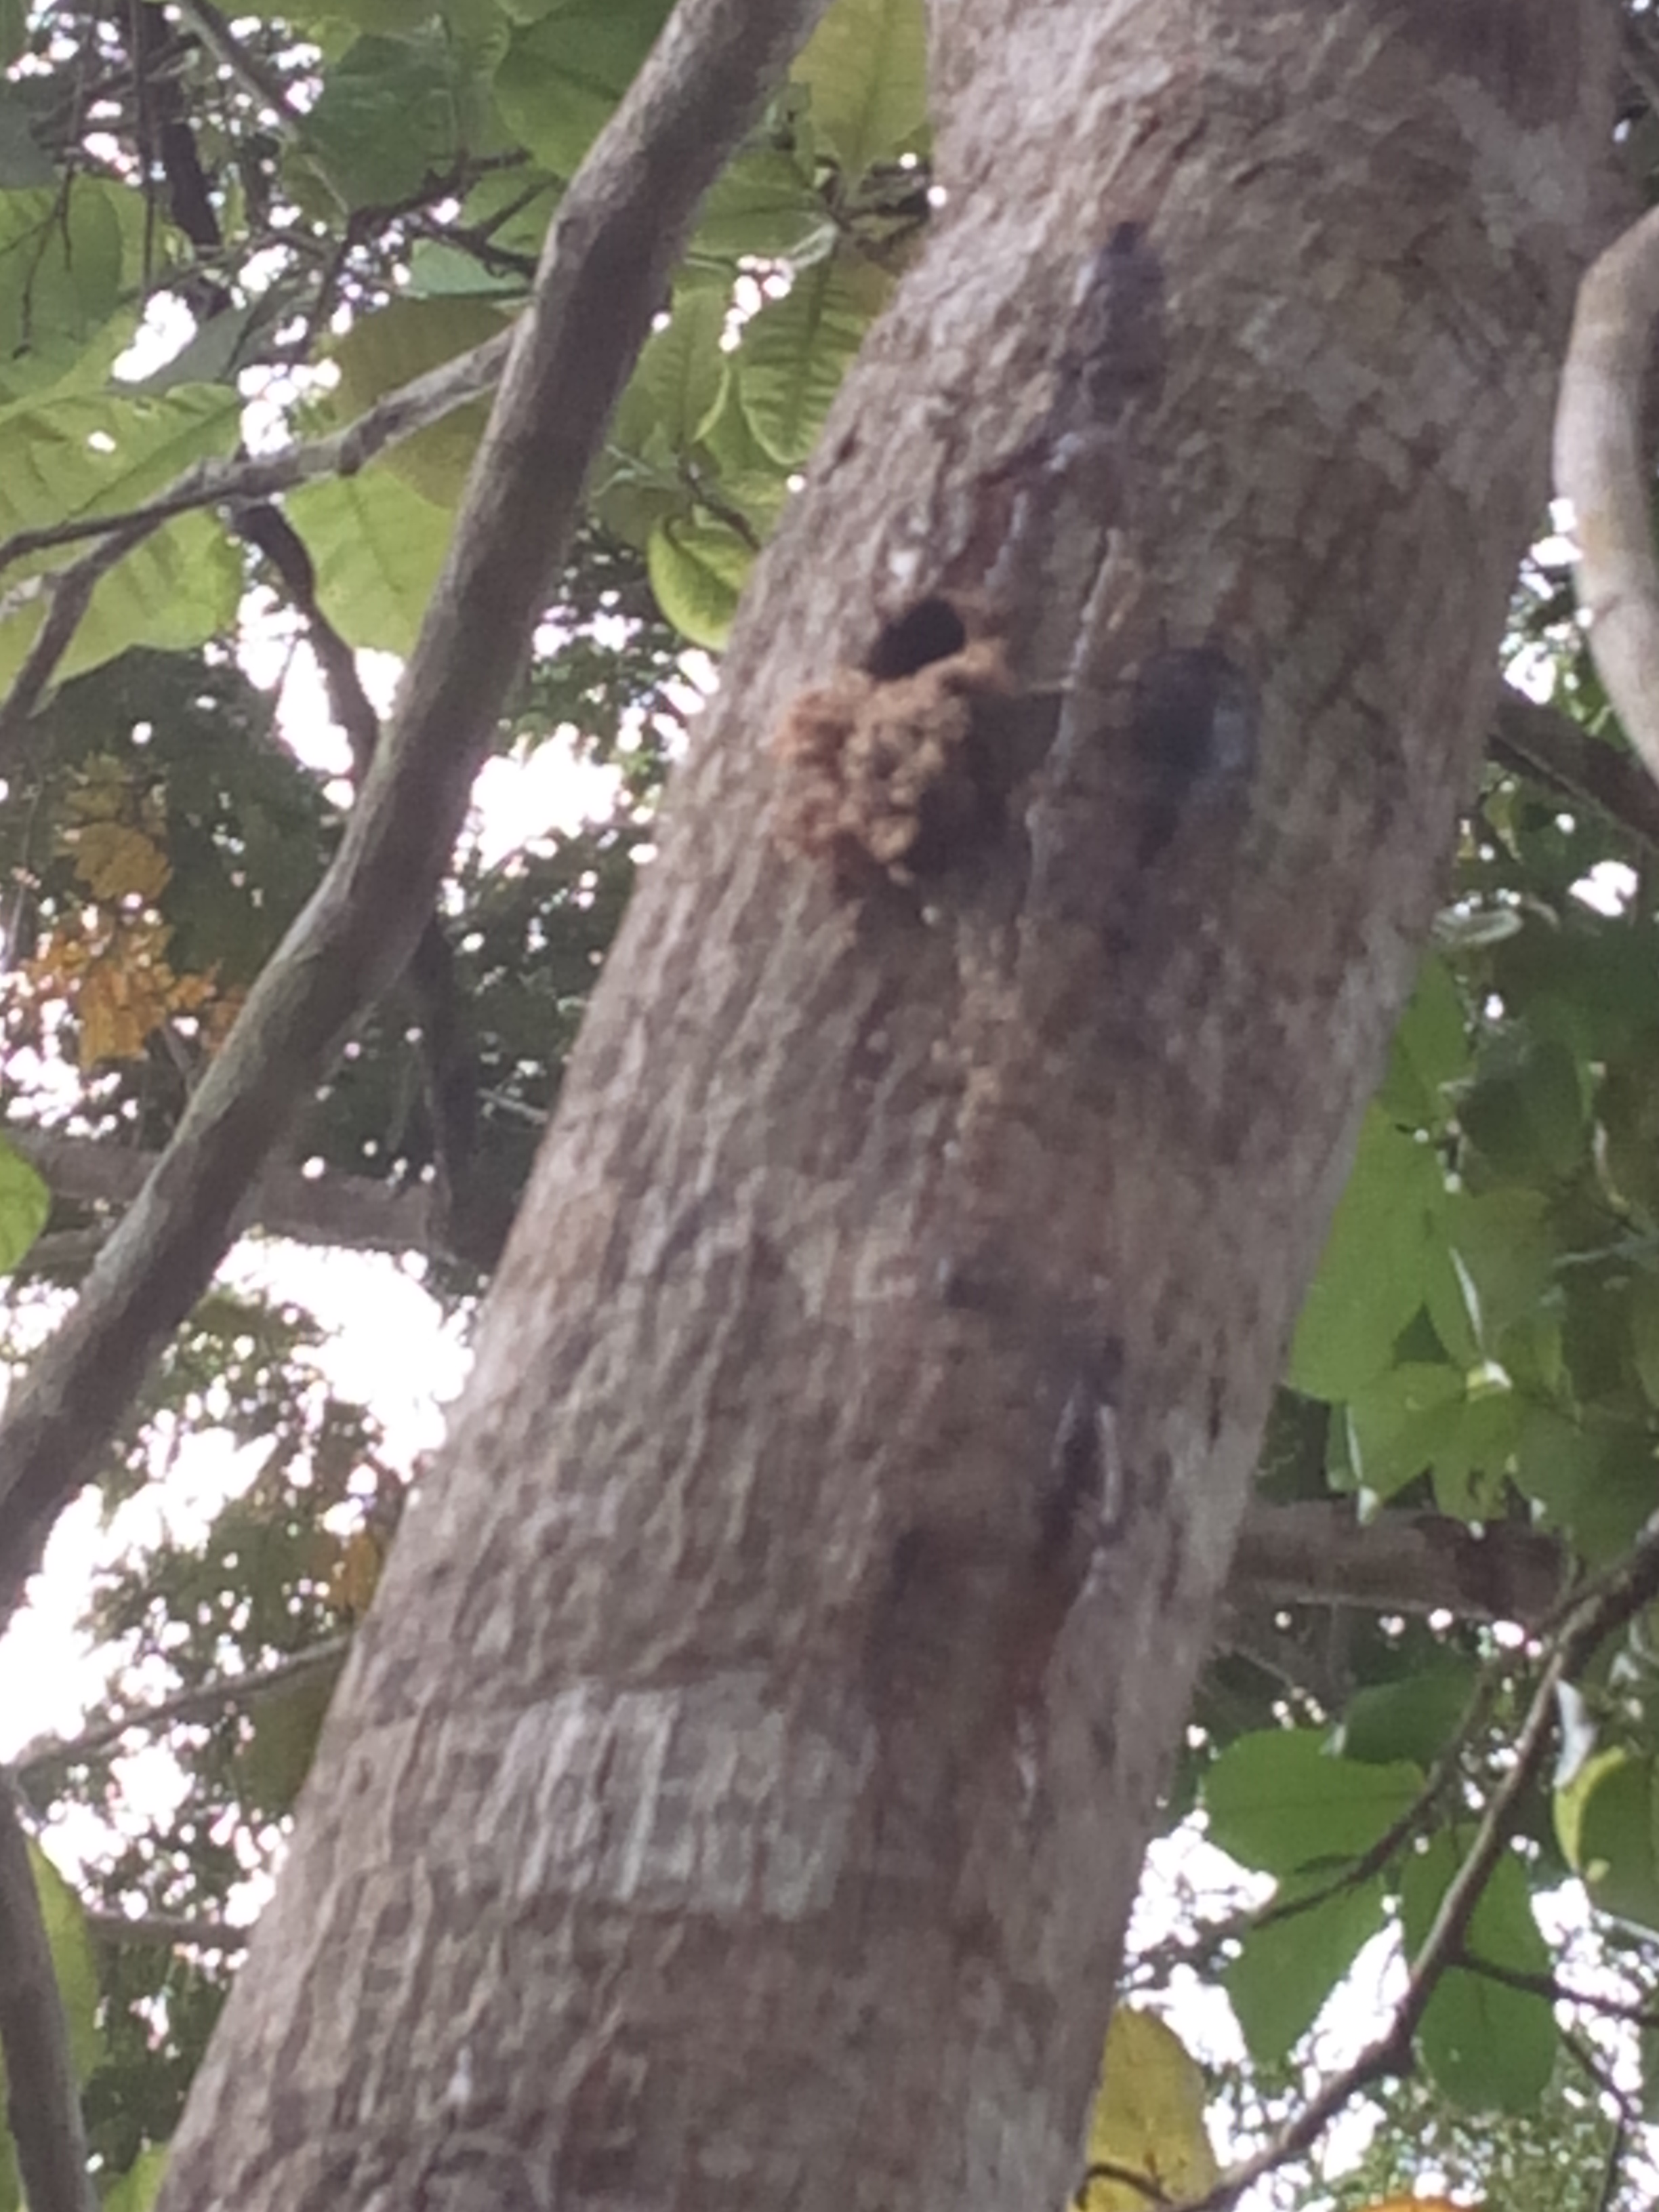Apate terebrans: (786, 564, 1105, 730)
